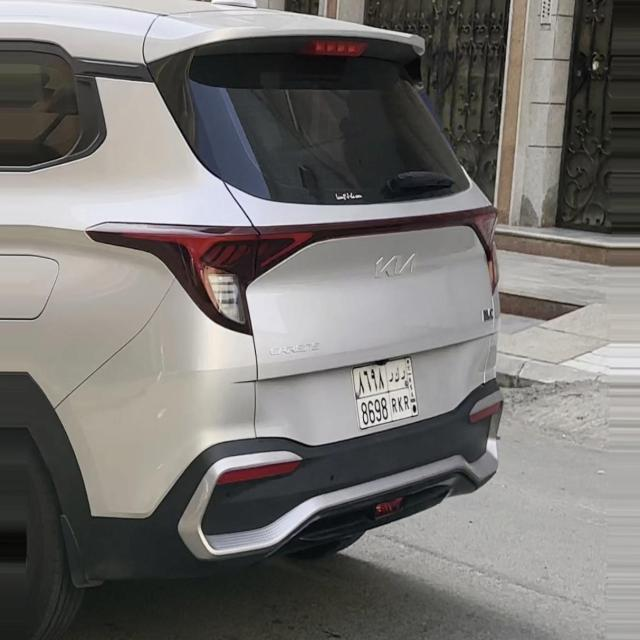Car-plate: (340, 341, 445, 442)
